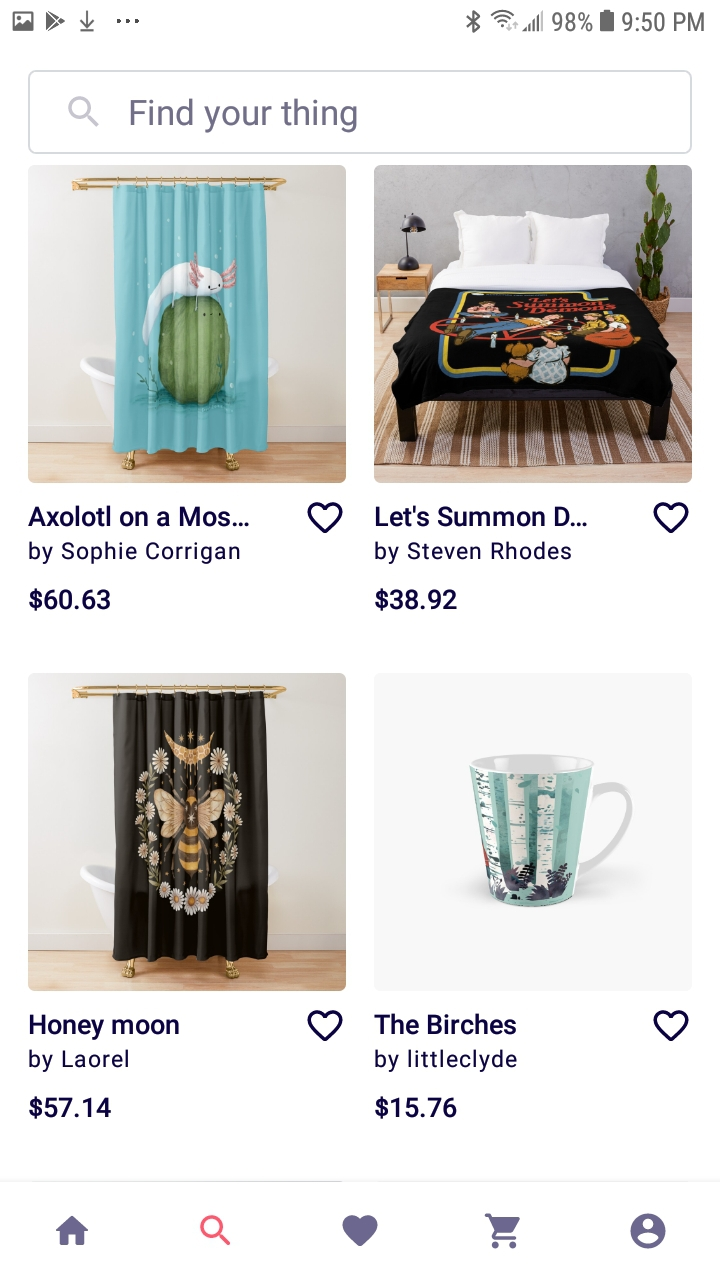EditText: (28, 71, 692, 155)
Icon: (484, 1212, 520, 1249), (630, 1213, 666, 1249), (307, 1010, 344, 1042), (308, 502, 344, 534), (343, 1214, 379, 1246), (654, 1010, 689, 1041), (654, 503, 689, 534), (68, 96, 100, 128), (56, 1215, 89, 1245), (200, 1215, 231, 1246)
Image: (28, 673, 347, 991), (374, 673, 692, 991), (374, 166, 692, 484), (29, 166, 347, 484)
Text: (29, 506, 250, 565), (375, 505, 588, 565), (29, 1014, 180, 1073), (374, 1013, 517, 1073), (130, 99, 358, 135), (375, 1095, 458, 1119), (375, 588, 457, 612), (29, 588, 111, 612), (30, 1096, 111, 1119)
UpperTaskBar: (1, 1, 720, 34)
